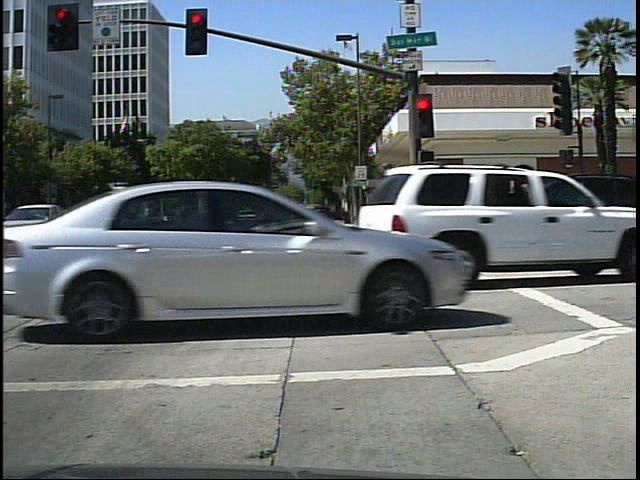person: (289, 203, 303, 221)
